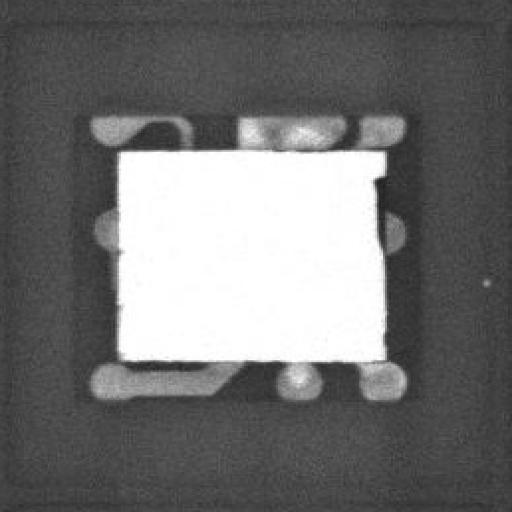DIE_BROKEN: (369, 171, 383, 252)
DIE_INK: (478, 275, 490, 290)
